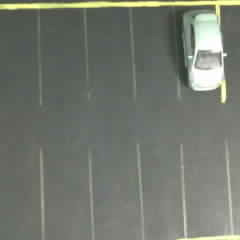Car: (176, 3, 233, 99)
